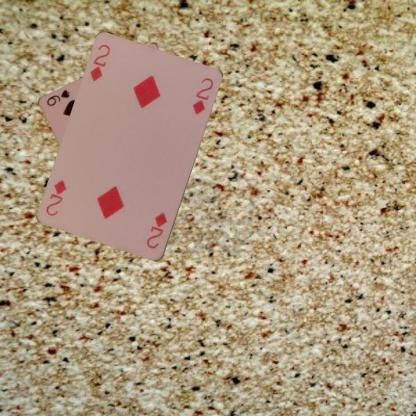2d: (87, 42, 112, 84), (144, 210, 169, 250)
